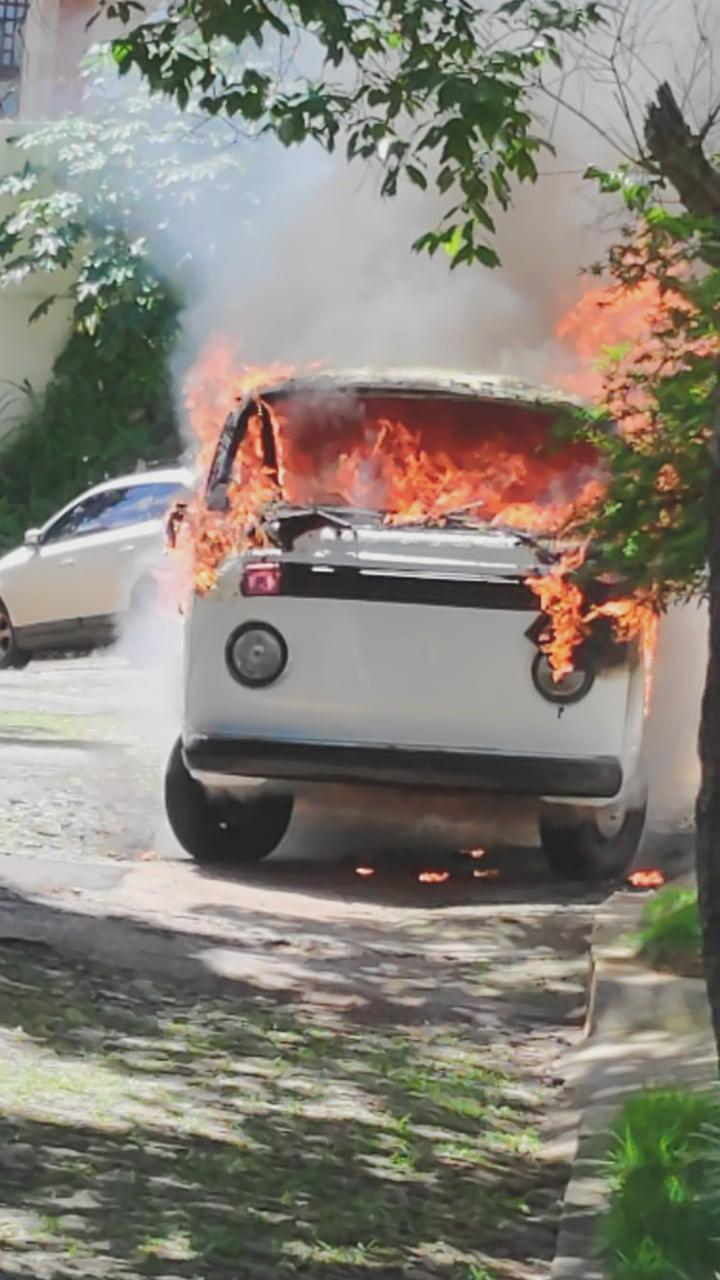Fire: (182, 332, 607, 594), (557, 241, 718, 414), (533, 556, 667, 690), (629, 871, 667, 887), (419, 872, 454, 882)
